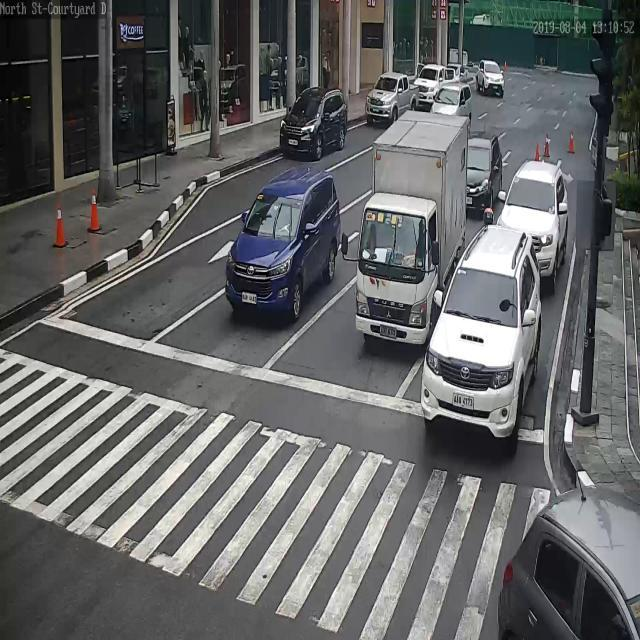car: (421, 215, 541, 437), (492, 488, 640, 640), (226, 166, 344, 323), (494, 162, 566, 296), (279, 86, 350, 160), (467, 134, 503, 219), (364, 70, 415, 124), (428, 82, 474, 117), (414, 64, 455, 101), (474, 61, 504, 97)
motorcycle: (484, 202, 495, 231)
truck: (353, 109, 468, 352)
